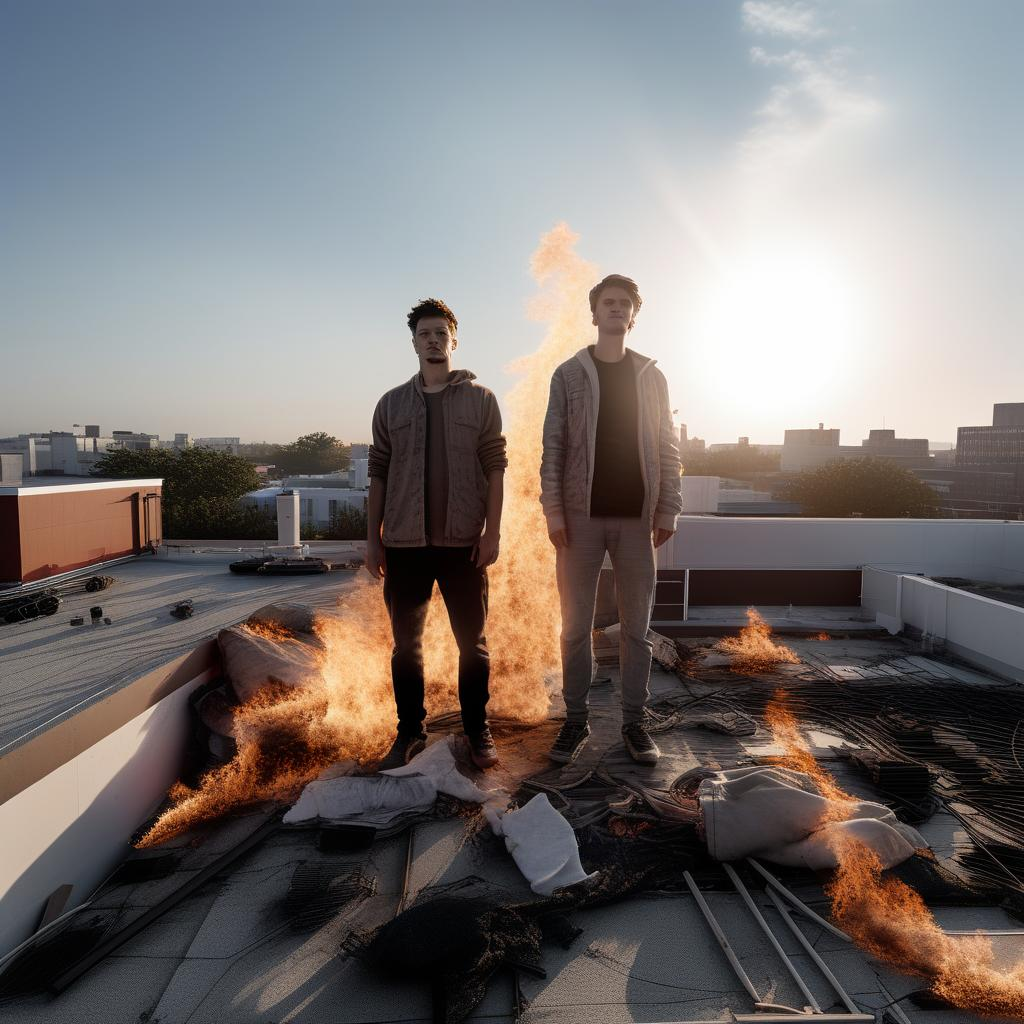victim: (360, 296, 518, 777), (537, 266, 686, 774)
